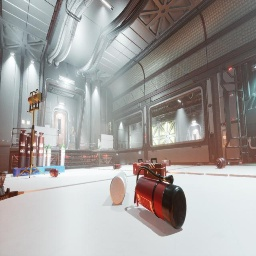0: (110, 171, 128, 205), (60, 140, 65, 166), (47, 140, 51, 166), (43, 140, 46, 167), (98, 139, 100, 149)
EmergencyPhone ,: (72, 126, 74, 132)
FireAlarm ,: (74, 132, 76, 136), (145, 134, 146, 138)
FireExtinguisher ]: (134, 166, 187, 230), (49, 168, 60, 177), (113, 164, 122, 170), (57, 172, 57, 172)
FirstAidBox ,: (144, 158, 166, 180), (133, 158, 148, 175), (162, 158, 171, 166)
NitrogenTank ,: (18, 129, 27, 168), (29, 130, 38, 168), (25, 132, 32, 168), (37, 132, 44, 167), (216, 158, 226, 169), (145, 160, 156, 163)
SafetySwitchPanel ,: (221, 126, 230, 147), (45, 125, 50, 128)
